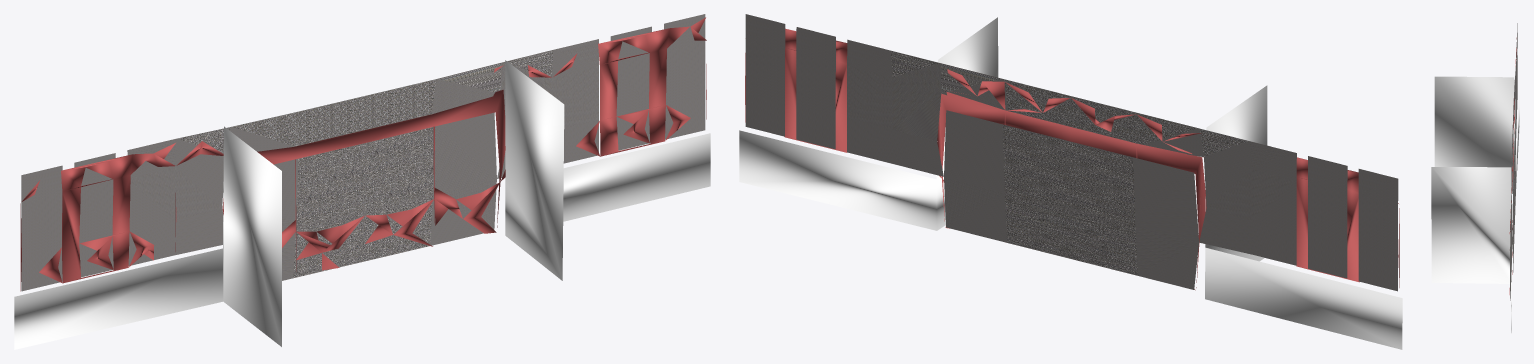
The model's file is far.gltf.
3 views of the same model, side by side, from view 1: azimuth 30°, elevation 25°; view 2: azimuth 150°, elevation 25°; view 3: azimuth 270°, elevation 25° (orthographic). The views are drawn at different scales.
Bounding box in the file's own units: 16.38 × 4 × 2.74.
